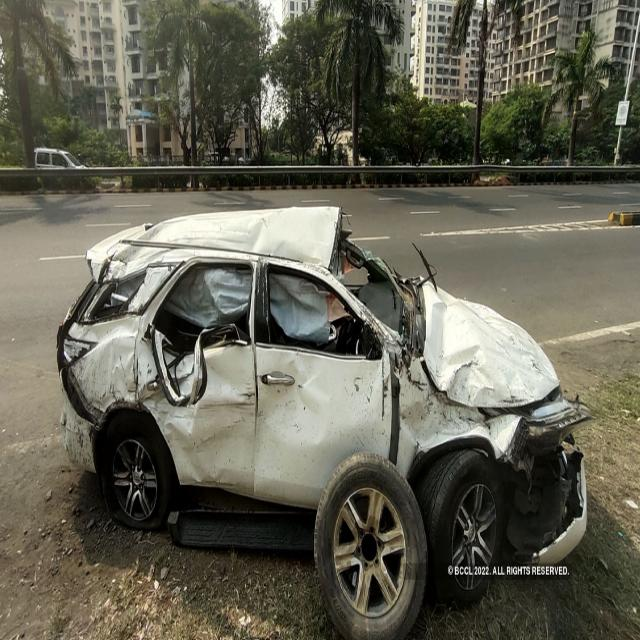accident: (56, 205, 590, 638)
